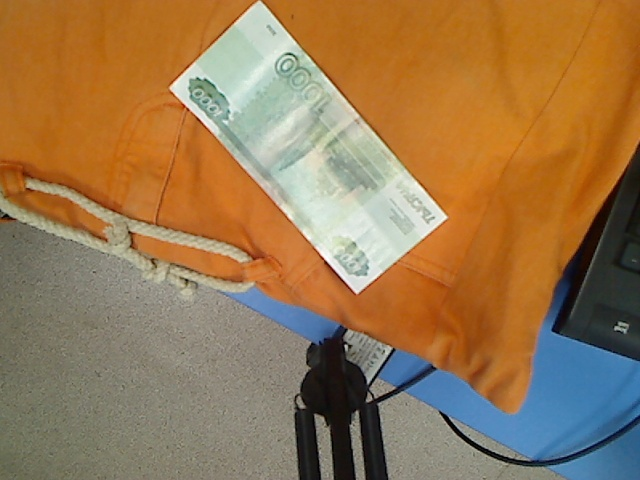banknotes: (168, 1, 449, 297)
